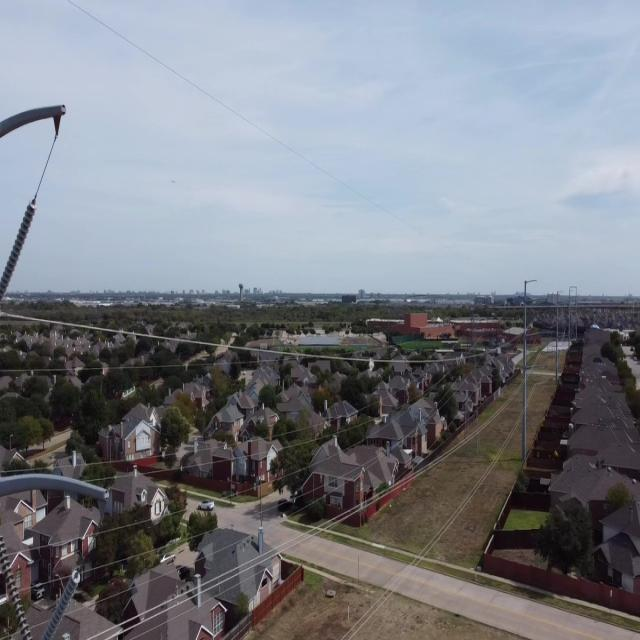正常绝缘子: (0, 183, 46, 314), (36, 556, 91, 640), (0, 520, 37, 640)
